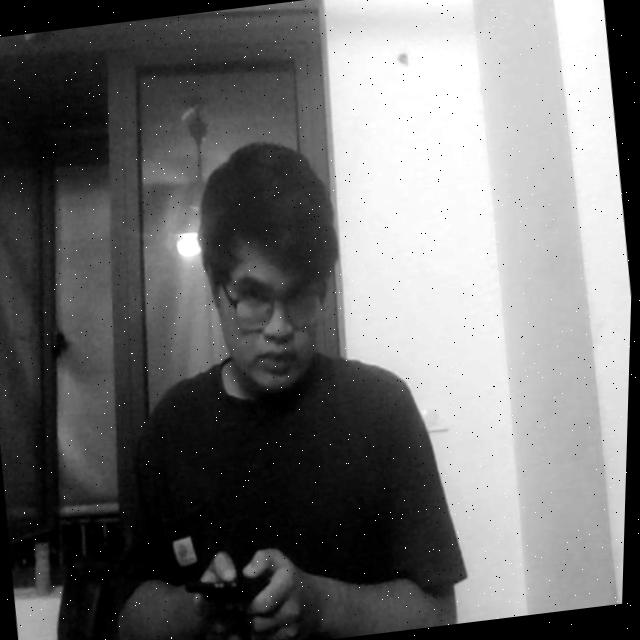phone: (183, 540, 290, 640)
